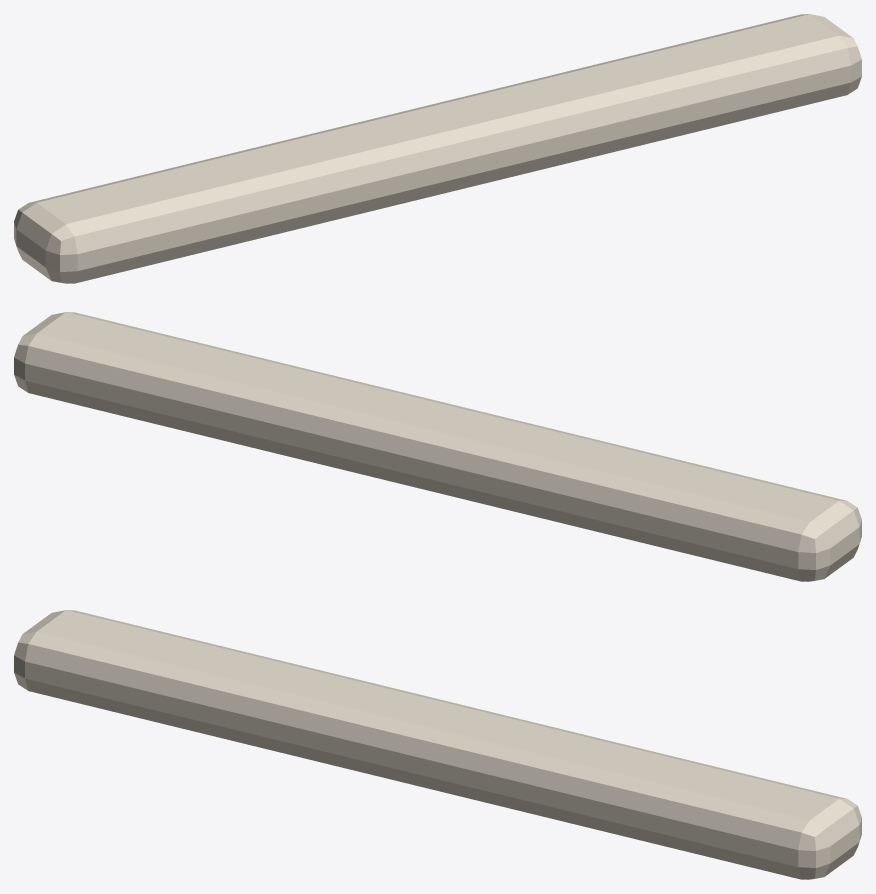
3 views of the same model, one above another, from view 1: azimuth 30°, elevation 25°; view 2: azimuth 150°, elevation 25°; view 3: azimuth 330°, elevation 25° (orthographic).
Visible parts, largest first — view 1: LOD1_PLAZA_EDGE_STRAIGHT_4M_Curb; view 2: LOD1_PLAZA_EDGE_STRAIGHT_4M_Curb; view 3: LOD1_PLAZA_EDGE_STRAIGHT_4M_Curb.
Part boxes in pixels (<box>): LOD1_PLAZA_EDGE_STRAIGHT_4M_Curb: <box>14,14,861,283</box>; LOD1_PLAZA_EDGE_STRAIGHT_4M_Curb: <box>14,312,861,581</box>; LOD1_PLAZA_EDGE_STRAIGHT_4M_Curb: <box>14,610,861,879</box>.
Size of what is drawn, in the model's own units: 4 by 0.28 by 0.45.
